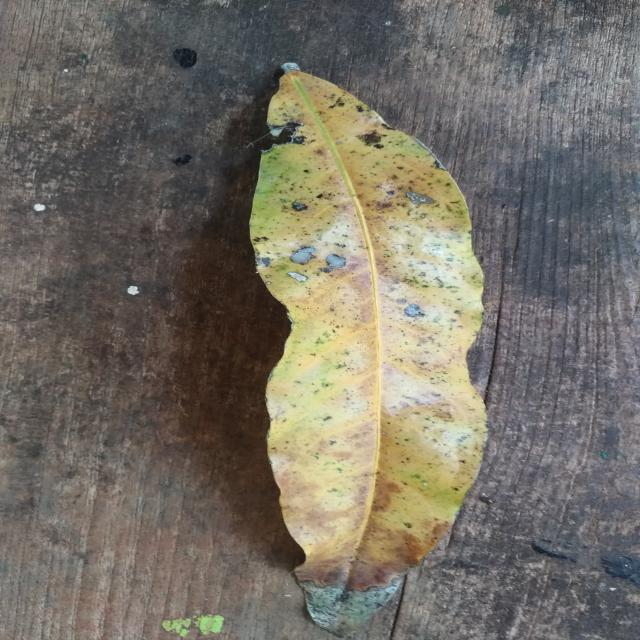defectedseethaashoka: (251, 64, 487, 634)
